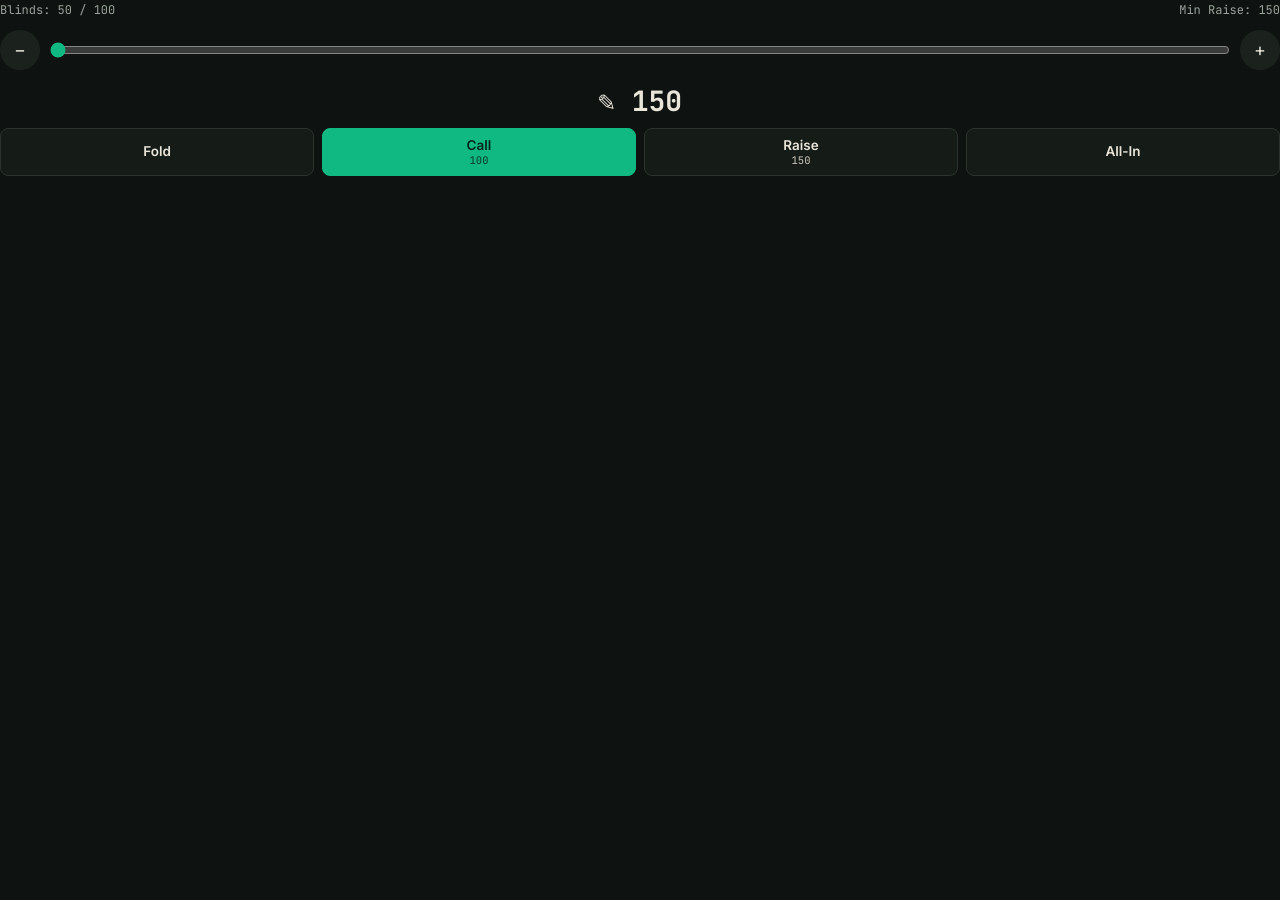
Test: actions › keeps claret off resting buttons — destructive color is confirm-only (uplift)
Click the button "Fold".
click(157, 152)  # box [0,128,314,176]
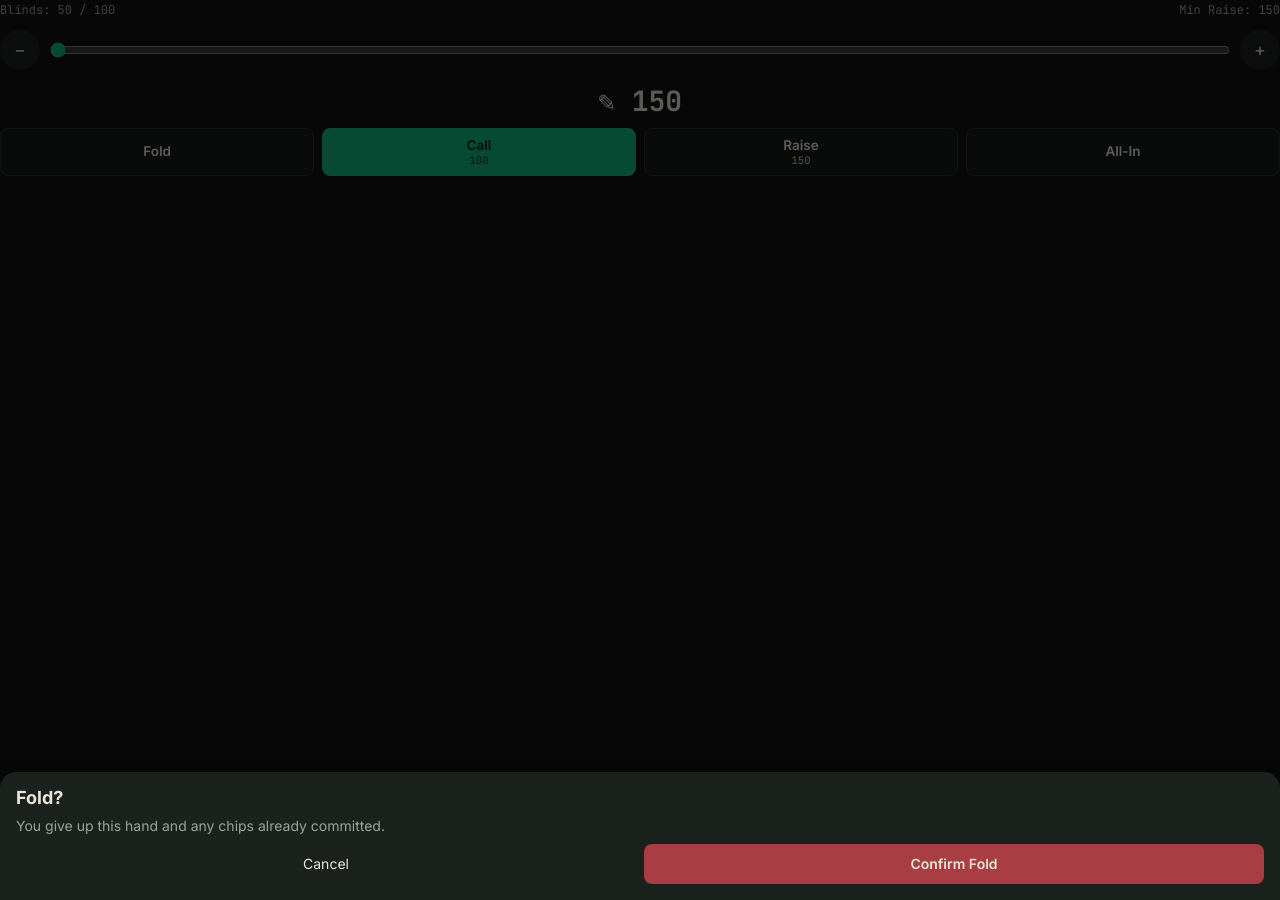
expect the button with class "button--danger" is shown: met, box [644,844,1264,884]
